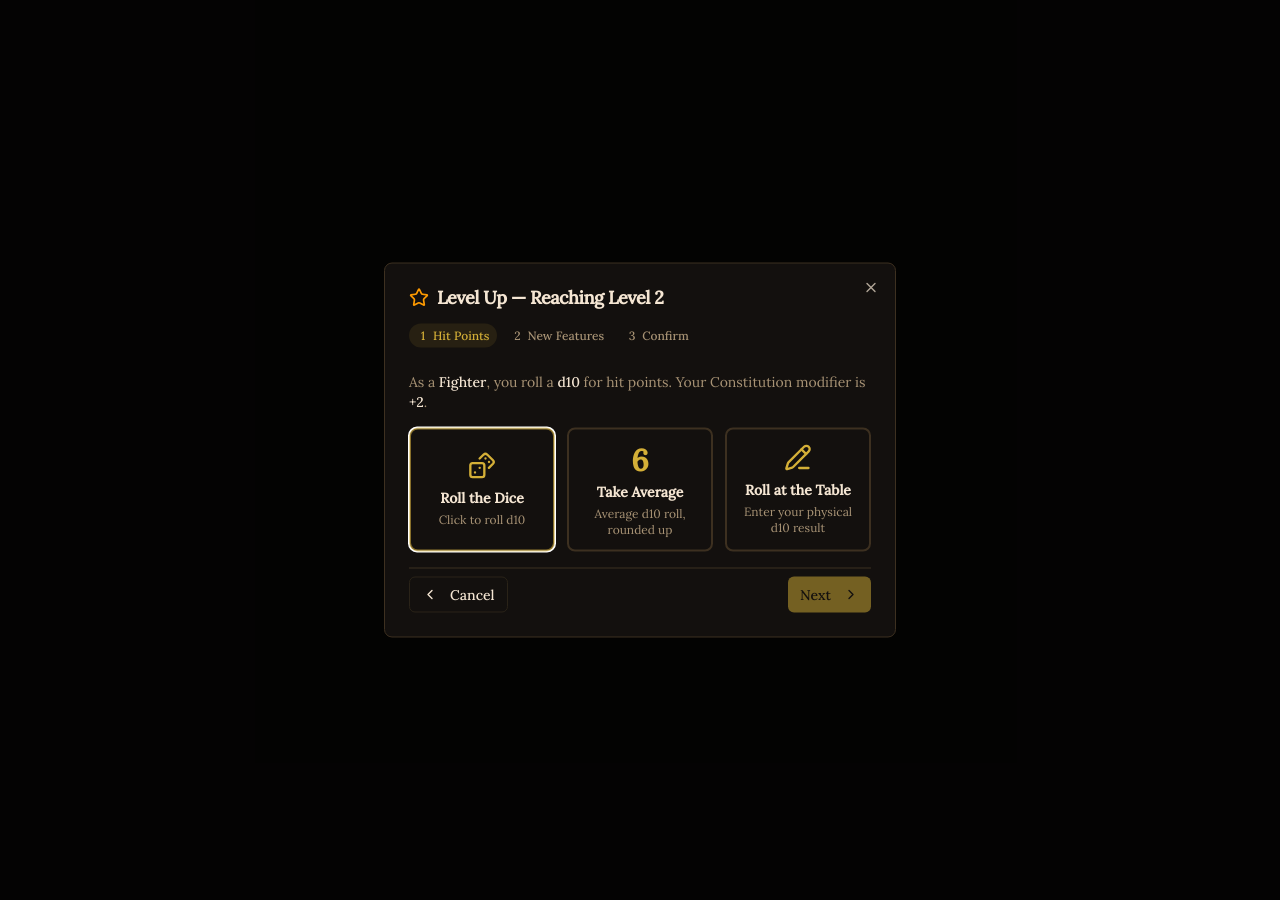
Test: LevelUpWizard › HP step — methods and lock-in › reveals a manual input only after Roll at the Table is chosen
Click the button with test id "hp-method-manual".
click(798, 490)  # box top-left (725, 428), bottom-right (871, 552)
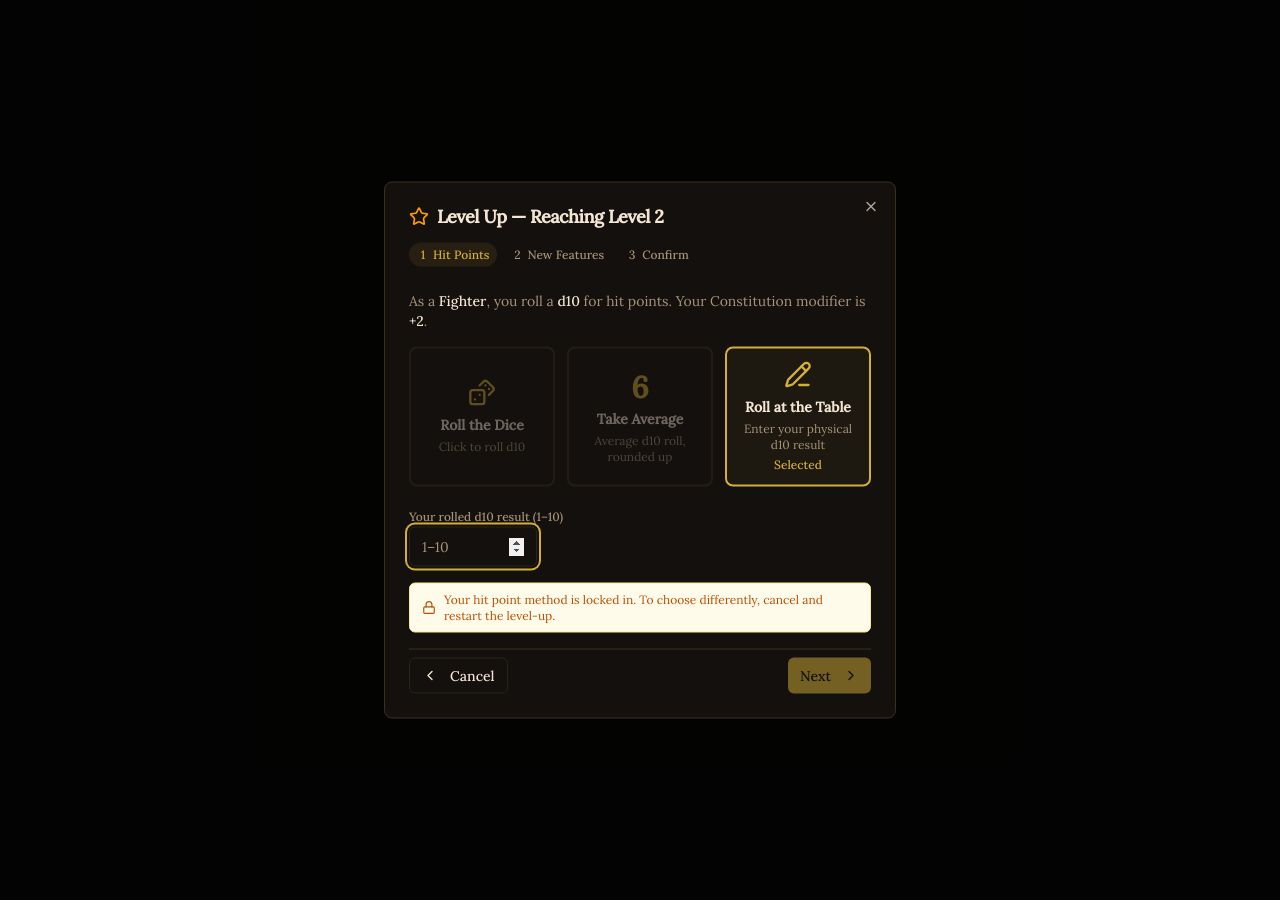
Result: the number field with test id "hp-manual-input" is shown at top-left (409, 526), bottom-right (537, 566)
